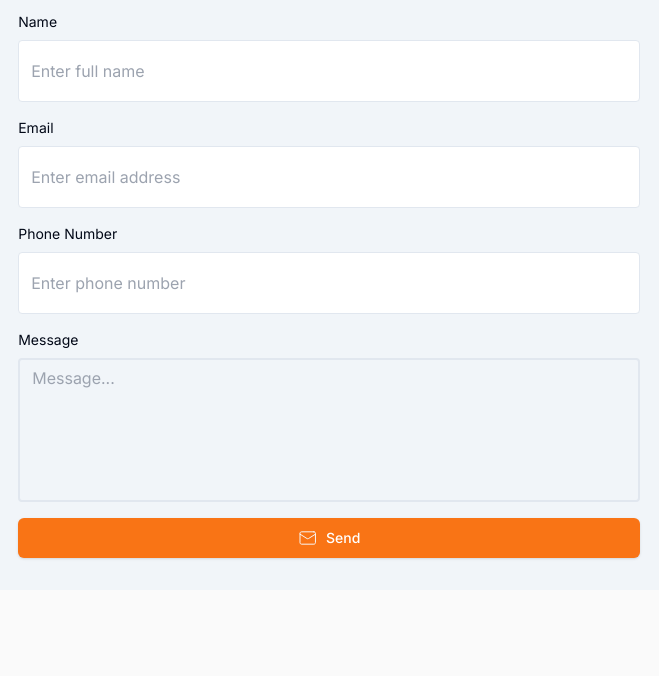
Test: contactForm Component › should validate phone number format
This screenshot has width=659, height=676.
In the field with placeholder "Enter phone number": (329, 283) 18,252 -> 640,314, type "123"
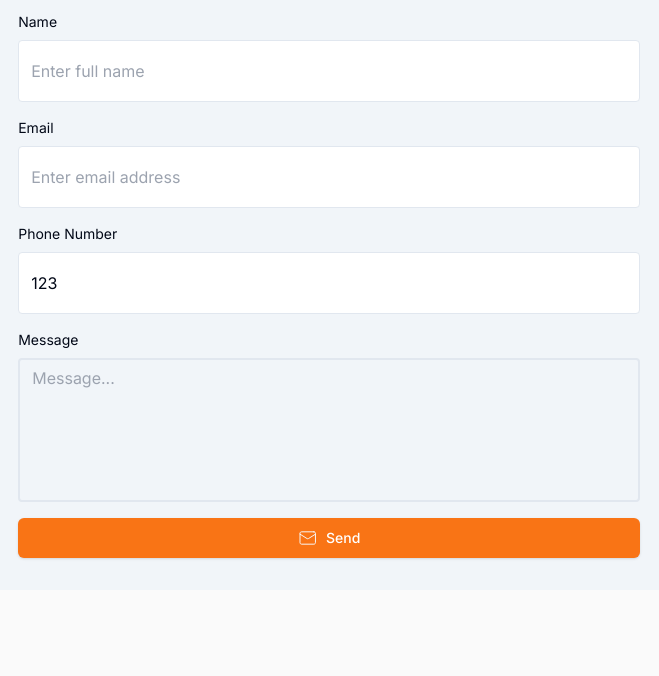
Click the button "Send": (329, 538) 18,518 -> 640,558
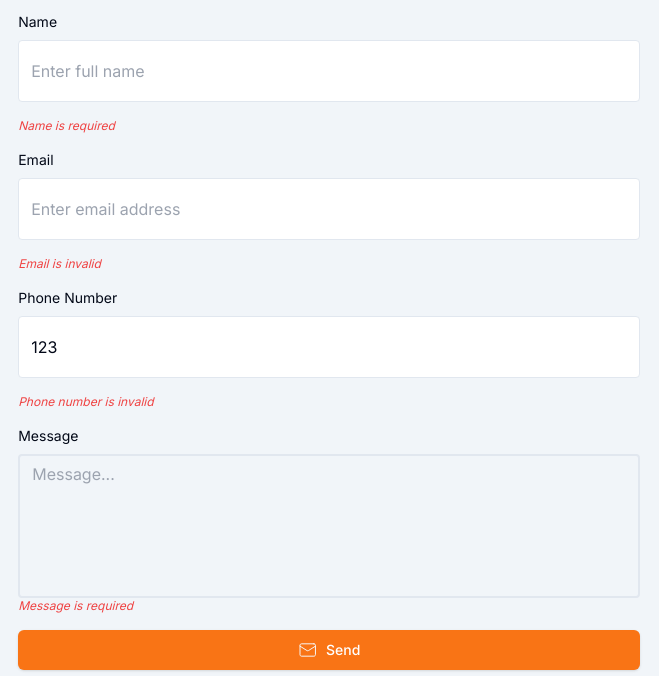
Result: the text "Phone number is invalid" is shown at 18,394 -> 154,409
